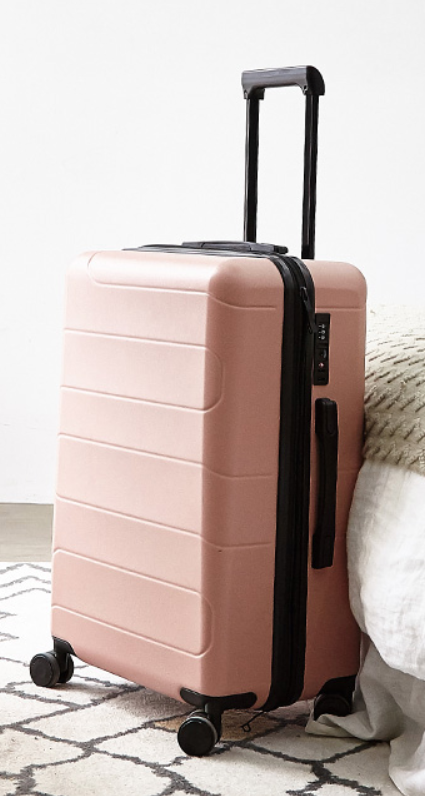box: (54, 243, 368, 710)
handle: (312, 398, 337, 571)
lock: (314, 312, 330, 385)
wheel: (177, 709, 222, 756), (28, 649, 75, 687)
